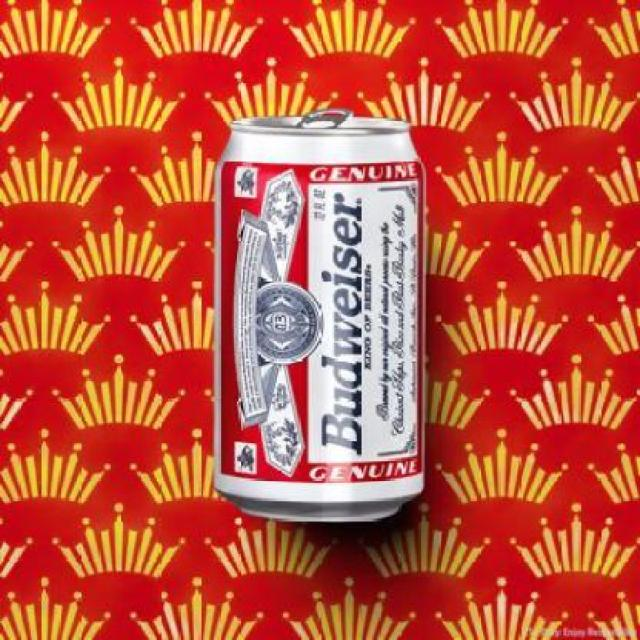metal: (213, 108, 428, 523)
